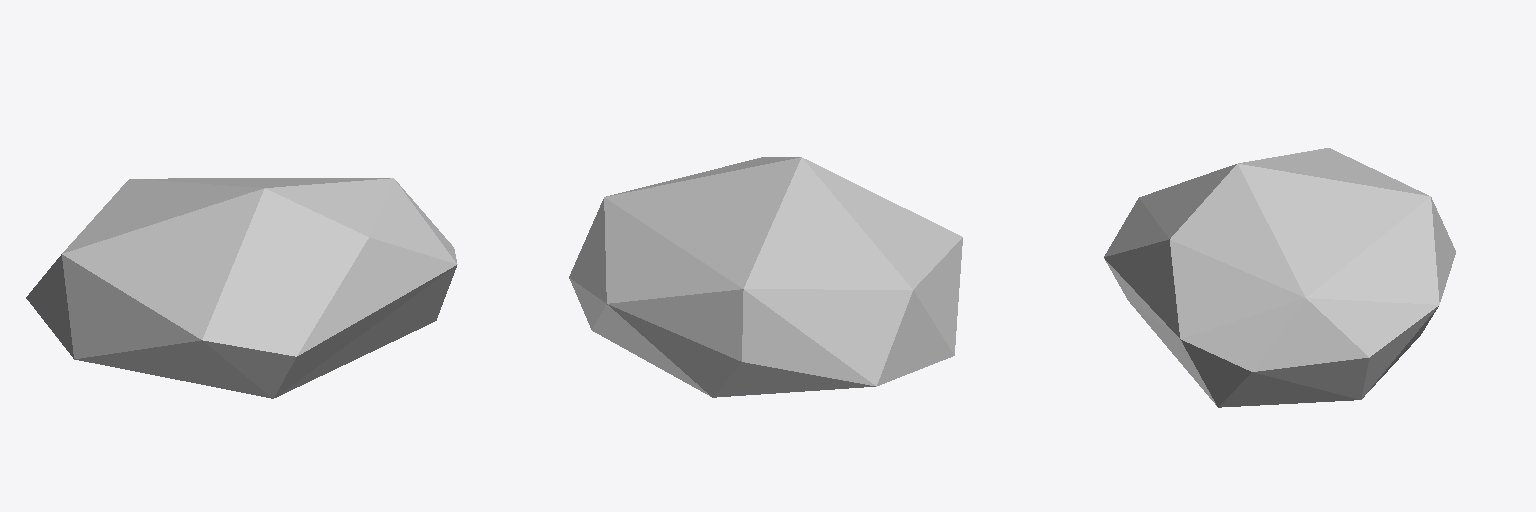
The model's file is rock18.obj.
3 views of the same model, side by side, from view 1: azimuth 30°, elevation 25°; view 2: azimuth 150°, elevation 25°; view 3: azimuth 270°, elevation 25° (orthographic).
Visible parts, largest first — view 1: Rock1_Icosphere.012; view 2: Rock1_Icosphere.012; view 3: Rock1_Icosphere.012.
Part boxes in pixels (left/top/right/bottom): Rock1_Icosphere.012: left=26, top=178, right=457, bottom=398; Rock1_Icosphere.012: left=569, top=157, right=962, bottom=397; Rock1_Icosphere.012: left=1104, top=148, right=1455, bottom=407.
Size of the model in its own units: 1.18 by 0.5273 by 0.9758.